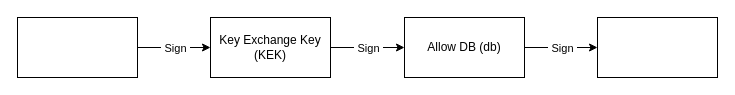
Some shapes in this 735 by 95 pixel diagram are drawn without their labels. The centre of each missing label's shape, as x and y in pixels:
"Platform Key (PK)" belongs at point 77,47.
"UKI (EFI executable)" belongs at point 657,47.
